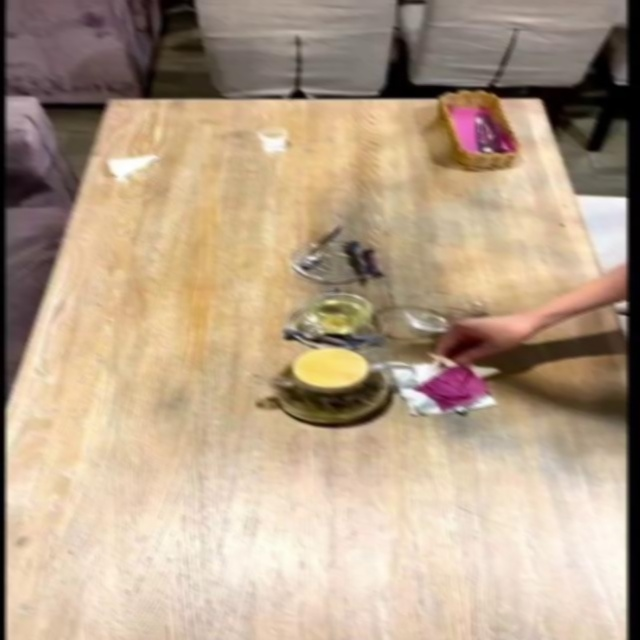tea: (265, 345, 391, 424)
